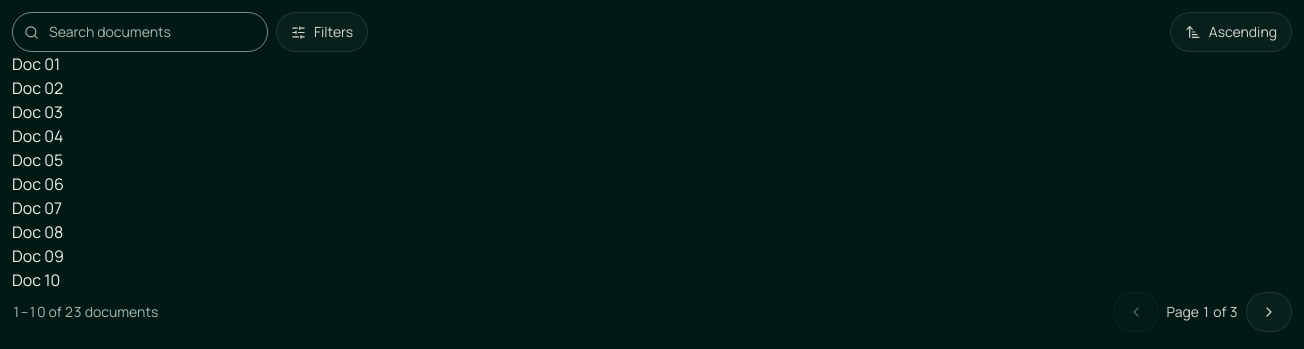
Test: a paged list › steps through the pages to a short last page and keeps the page in the URL
Expected: the text "1–10 of 23 documents" is shown, top-left (12, 302), bottom-right (158, 322)
Expected: the text "Page 1 of 3" is shown, top-left (1167, 302), bottom-right (1238, 322)
Click the button named "Next page".
click(1269, 312)  # box top-left (1246, 292), bottom-right (1292, 332)
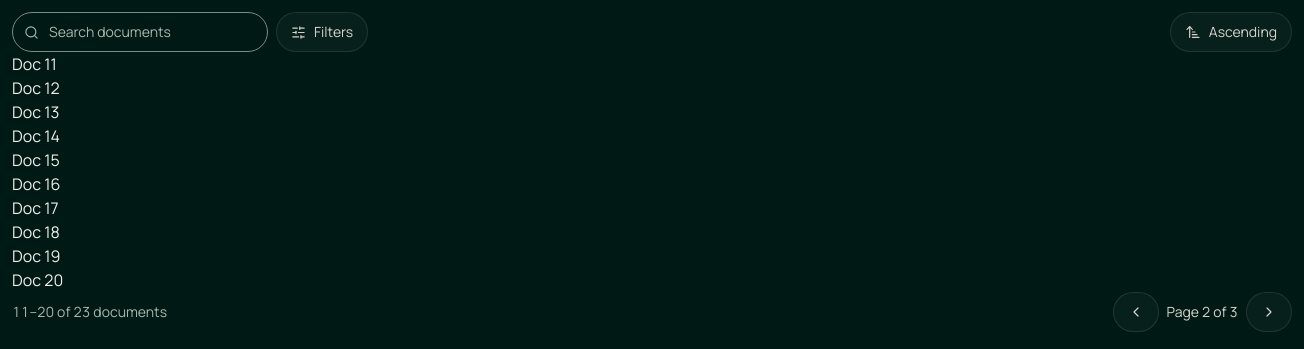
Click the button named "Next page".
click(1269, 312)  # box top-left (1246, 292), bottom-right (1292, 332)
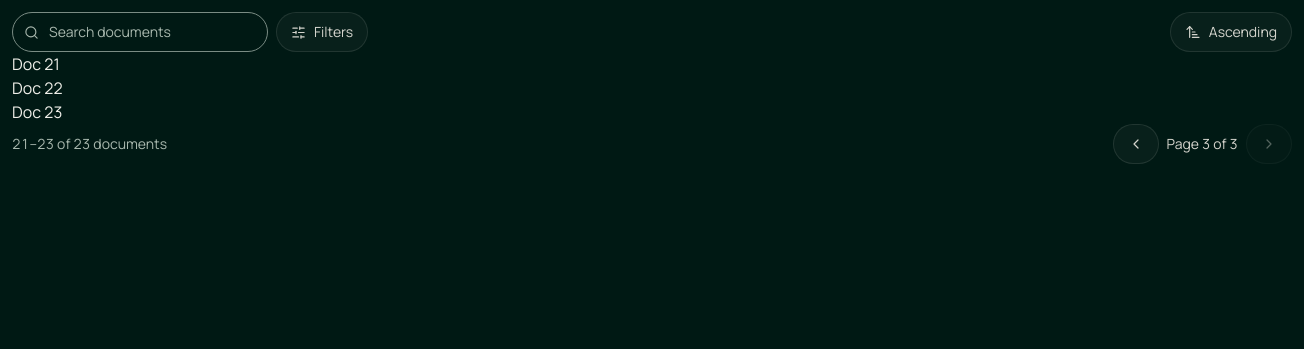
Expected: the text "21–23 of 23 documents" is shown, top-left (12, 134), bottom-right (167, 154)
Click the button named "Previous page".
click(1136, 144)  # box top-left (1113, 124), bottom-right (1159, 164)
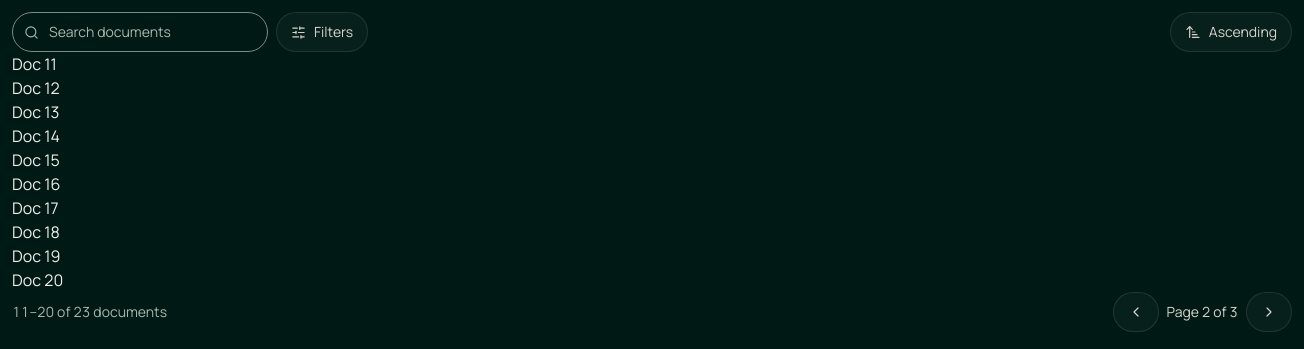
Expected: the list item "Doc 11" is shown, top-left (12, 53), bottom-right (57, 75)
